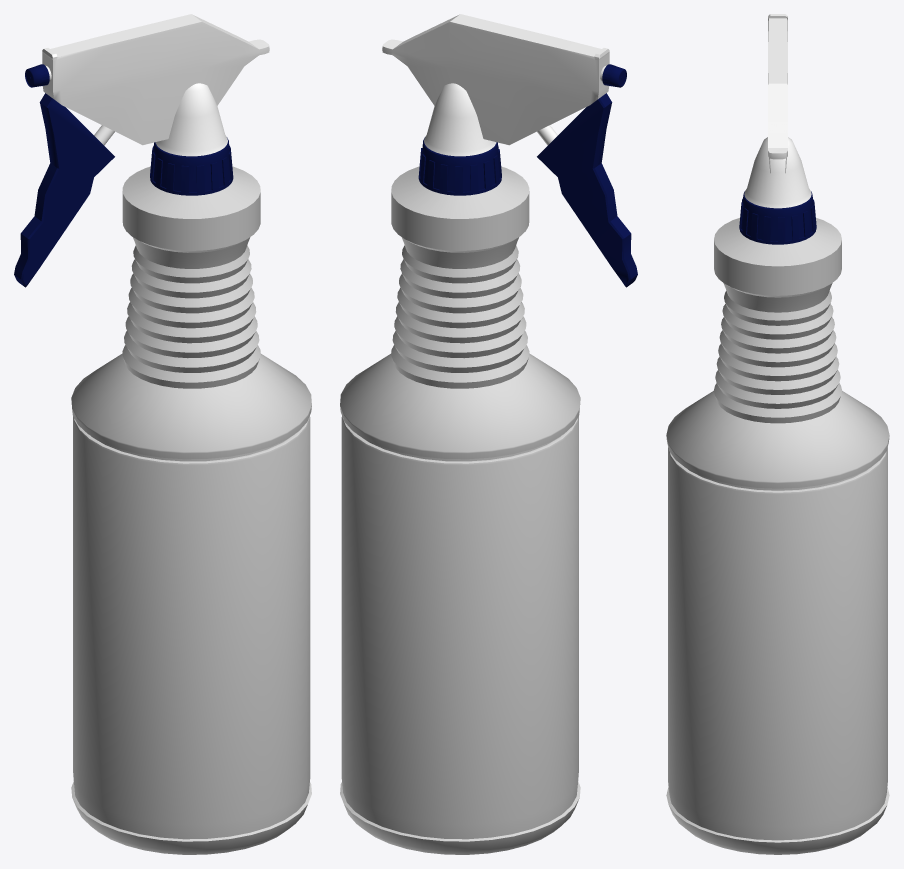
Rendered from Spray Bottle.fbx.
3 renders of one model, left to right at view 1: azimuth 30°, elevation 25°; view 2: azimuth 150°, elevation 25°; view 3: azimuth 270°, elevation 25°, orthographic. The views are drawn at different scales.
Parts seen in each view (by area): view 1: Spray Bottle; view 2: Spray Bottle; view 3: Spray Bottle.
Part boxes in pixels (<box>): Spray Bottle: <box>14,14,311,854</box>; Spray Bottle: <box>340,14,637,854</box>; Spray Bottle: <box>666,14,889,854</box>.
Bounding box in the file's own units: 239 × 653 × 179.
